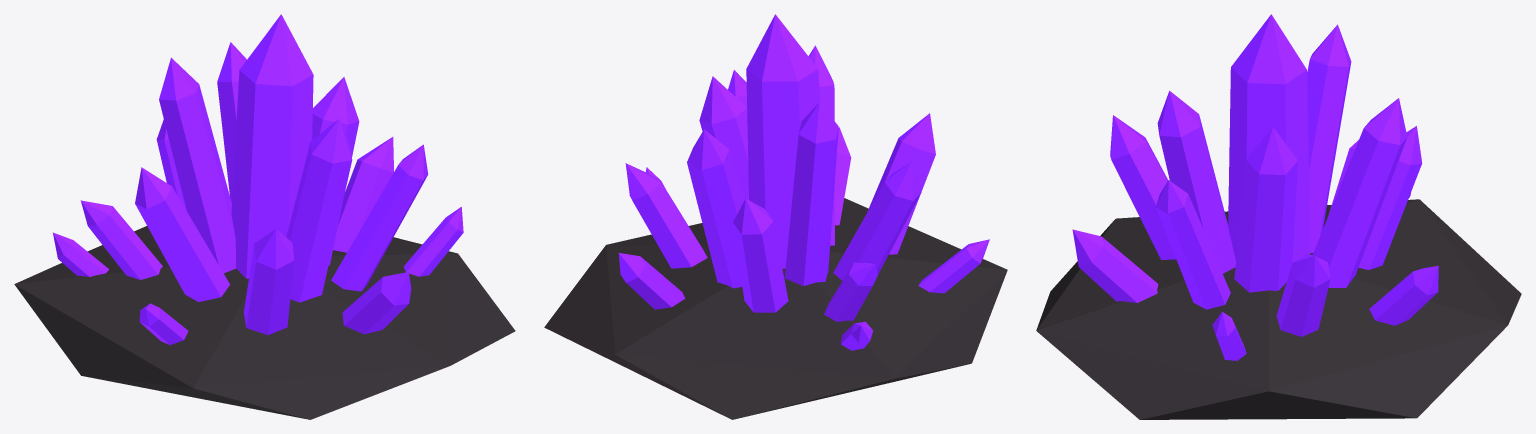
File: cristal_2.gltf
3 renders of one model, left to right at view 1: azimuth 30°, elevation 25°; view 2: azimuth 150°, elevation 25°; view 3: azimuth 270°, elevation 25°, orthographic. The views are drawn at different scales.
Visible parts, largest first — view 1: Cristal, Socle; view 2: Cristal, Socle; view 3: Cristal, Socle.
Boxes of the visible parts, <box> form: Cristal: <box>53,14,463,344</box>; Socle: <box>14,226,515,419</box>; Cristal: <box>618,14,989,350</box>; Socle: <box>544,198,1007,419</box>; Cristal: <box>1072,14,1438,360</box>; Socle: <box>1036,199,1521,419</box>.
Bounding box in the file's own units: 1.9 × 1.5 × 2.06.
